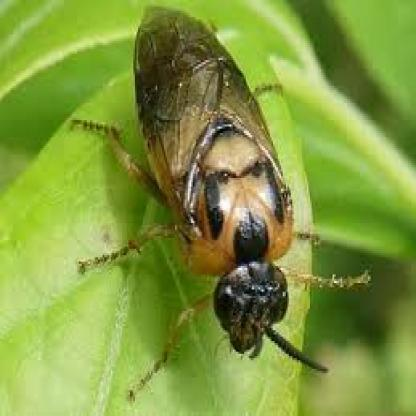sawfly: (67, 0, 376, 400)
